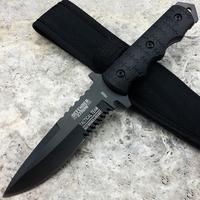knife: (1, 10, 193, 199)
